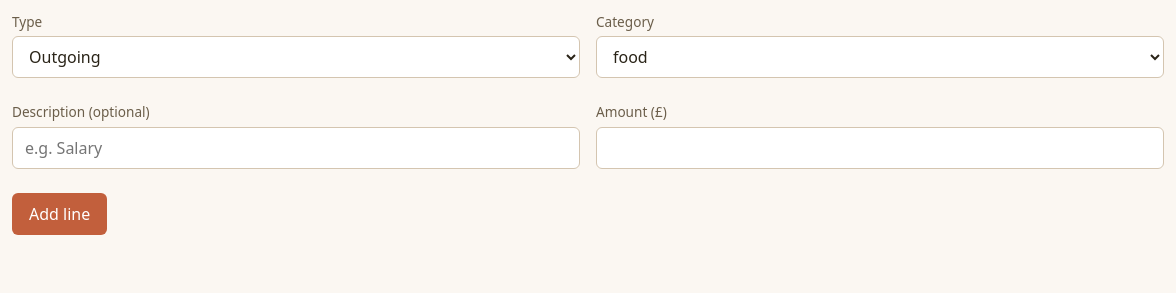
LineItemForm — inline validation › rejects a zero amount as not useful information
Type "0" into the number field labelled "Amount (£)" at (880, 148), box [596,127,1164,169]
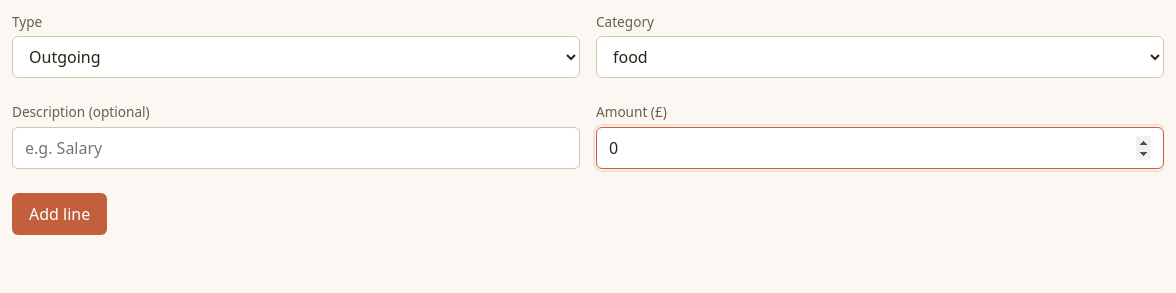
Click the button "Add line" at (60, 214), box [12,193,107,235]
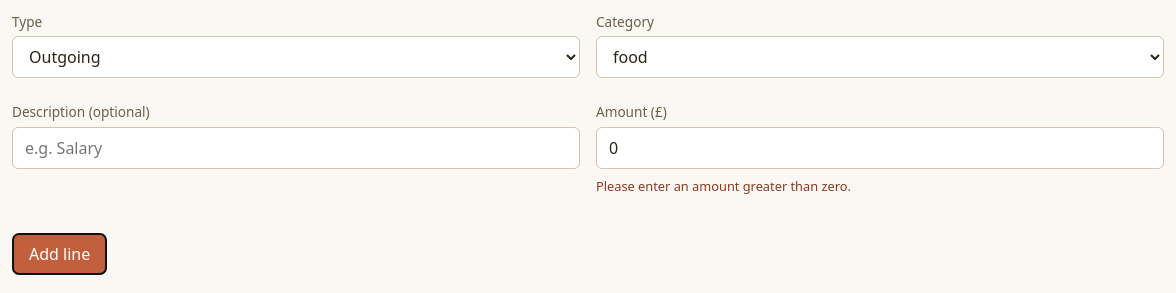
Check: the text "Please enter an amount greater than zero." is shown, box [596,177,851,195]
